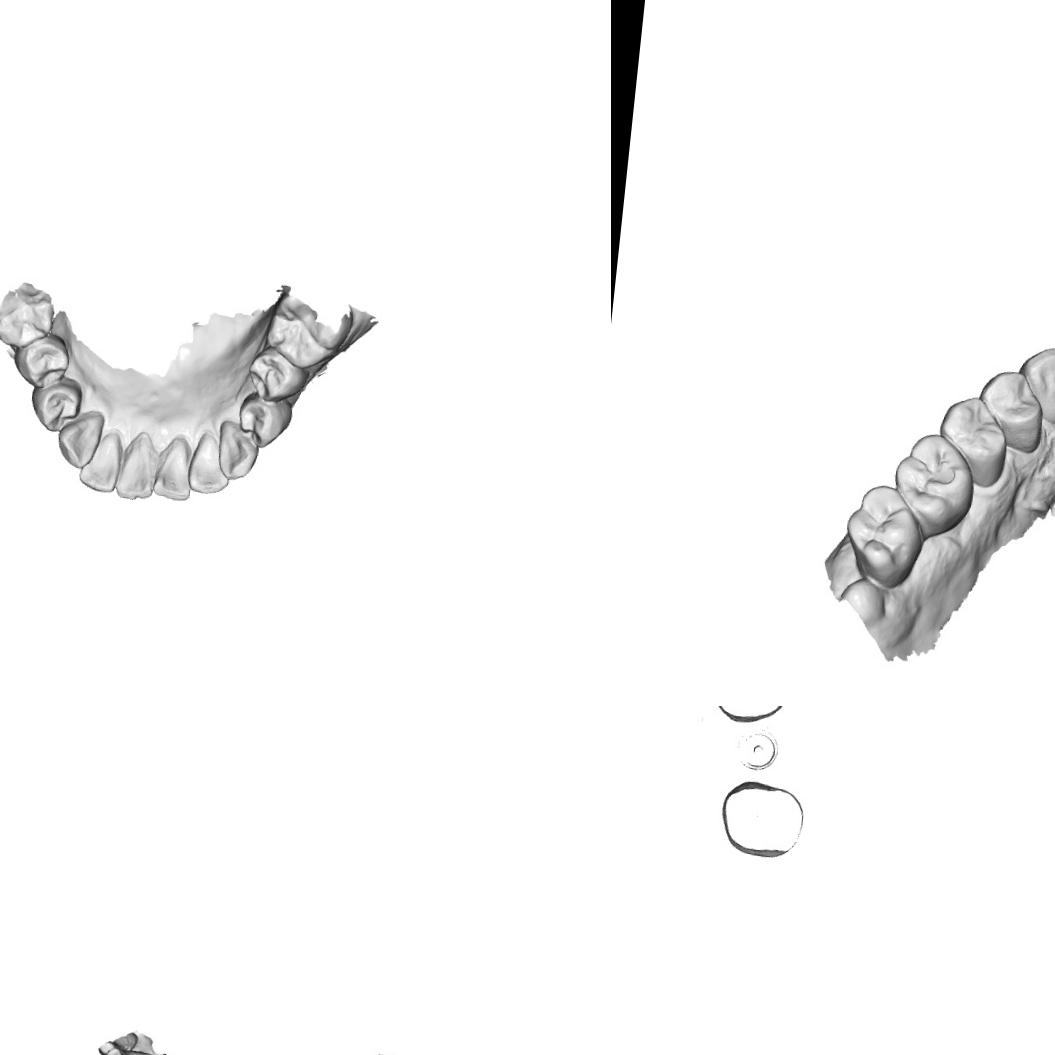canine: (54, 408, 107, 472), (212, 417, 262, 483), (1017, 343, 1055, 415)
incisor: (76, 427, 126, 495), (150, 434, 199, 502), (184, 431, 234, 497), (113, 438, 156, 503), (101, 1044, 153, 1055)
molar: (840, 480, 926, 588), (892, 430, 979, 530), (260, 291, 352, 374), (0, 276, 59, 353)
premolar: (935, 392, 1011, 464), (975, 367, 1048, 439), (244, 345, 310, 407), (11, 329, 74, 392), (233, 390, 296, 453), (26, 373, 85, 436)
